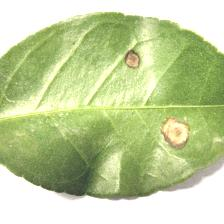canker: (116, 40, 196, 154)
